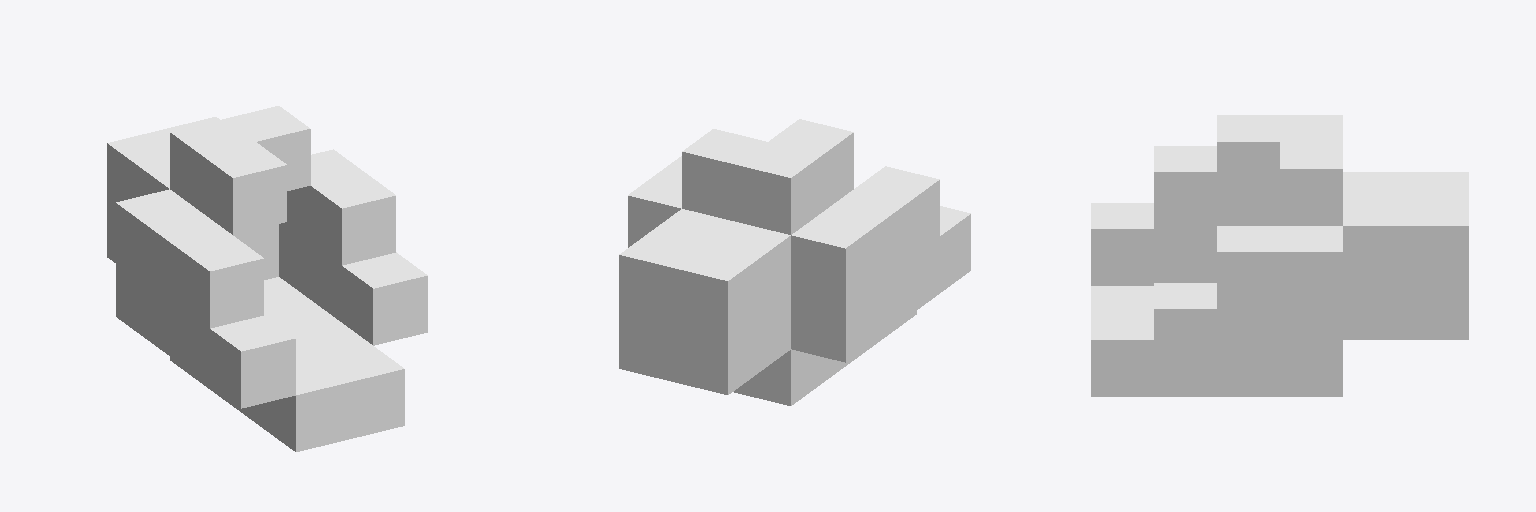
Rendered from botle.obj.
3 views of the same model, side by side, from view 1: azimuth 30°, elevation 25°; view 2: azimuth 150°, elevation 25°; view 3: azimuth 270°, elevation 25° (orthographic).
Parts seen in each view (by area): view 1: object 1; view 2: object 1; view 3: object 1.
Boxes of the visible parts, x1,y1,x2,y2 form: object 1: [107, 106, 427, 451]; object 1: [619, 119, 970, 405]; object 1: [1091, 115, 1468, 396].
Bounding box in the file's own units: 0.4 × 0.4 × 0.6.